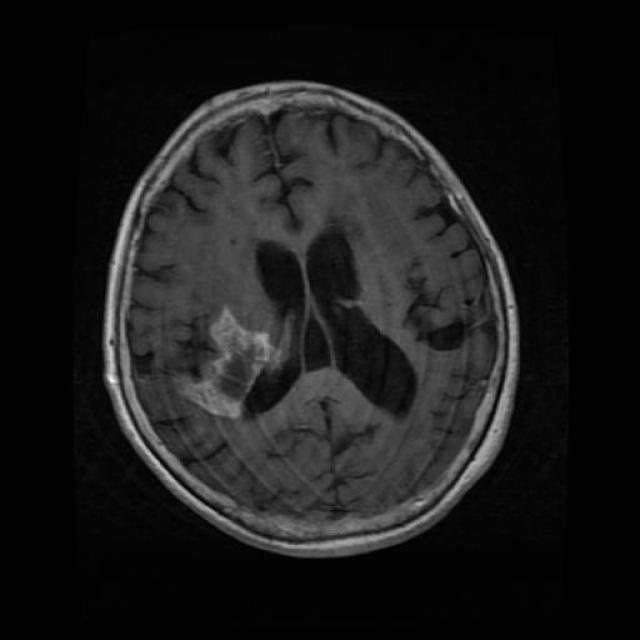brain_tumor: (211, 306, 271, 417), (174, 368, 220, 415)
